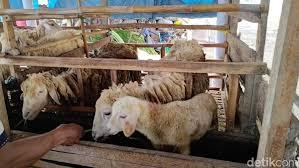Sheep: (104, 93, 154, 139), (87, 81, 120, 143), (20, 70, 58, 122)
